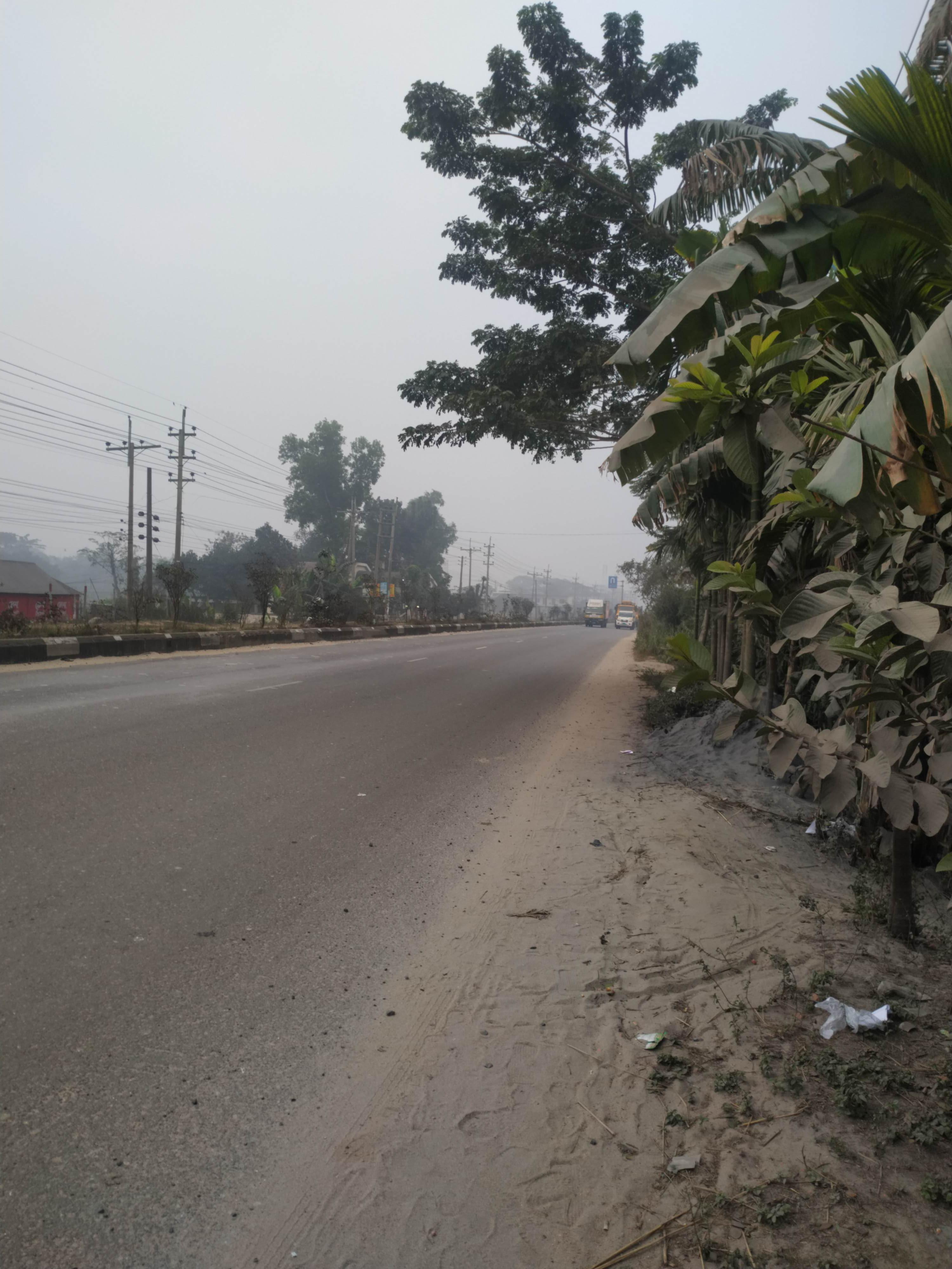Truck: (571, 582, 615, 636), (609, 603, 644, 638)
